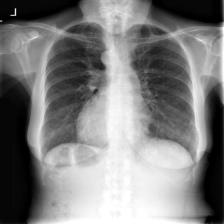normal: (37, 15, 203, 174)
